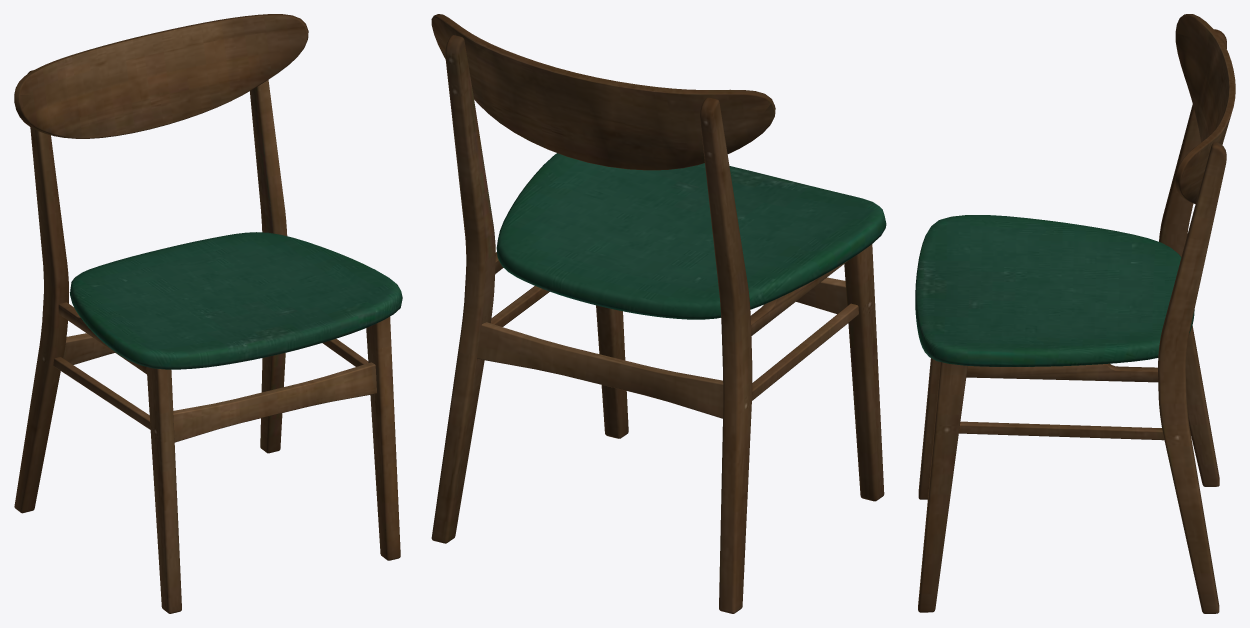
Rendered from chair-25.glb.
3 views of the same model, side by side, from view 1: azimuth 30°, elevation 25°; view 2: azimuth 150°, elevation 25°; view 3: azimuth 270°, elevation 25° (orthographic). The views are drawn at different scales.
Parts seen in each view (by area): view 1: Chair; view 2: Chair; view 3: Chair.
Part boxes in pixels (x1,y1,x2,y2): Chair: (14, 14, 402, 613); Chair: (431, 14, 886, 613); Chair: (915, 14, 1235, 613).
Size of the model in its own units: 5.77 by 8.37 by 5.16.
1 material, 1 textured.
